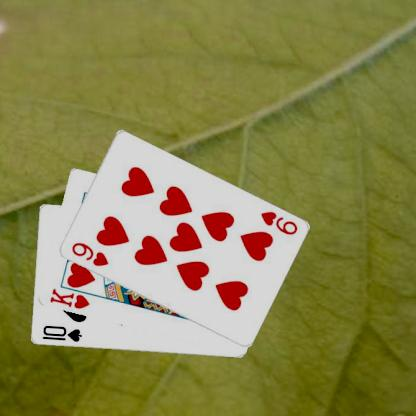10S: (39, 323, 83, 344)
9H: (68, 240, 110, 268), (257, 209, 299, 236)
KH: (46, 286, 90, 310)
